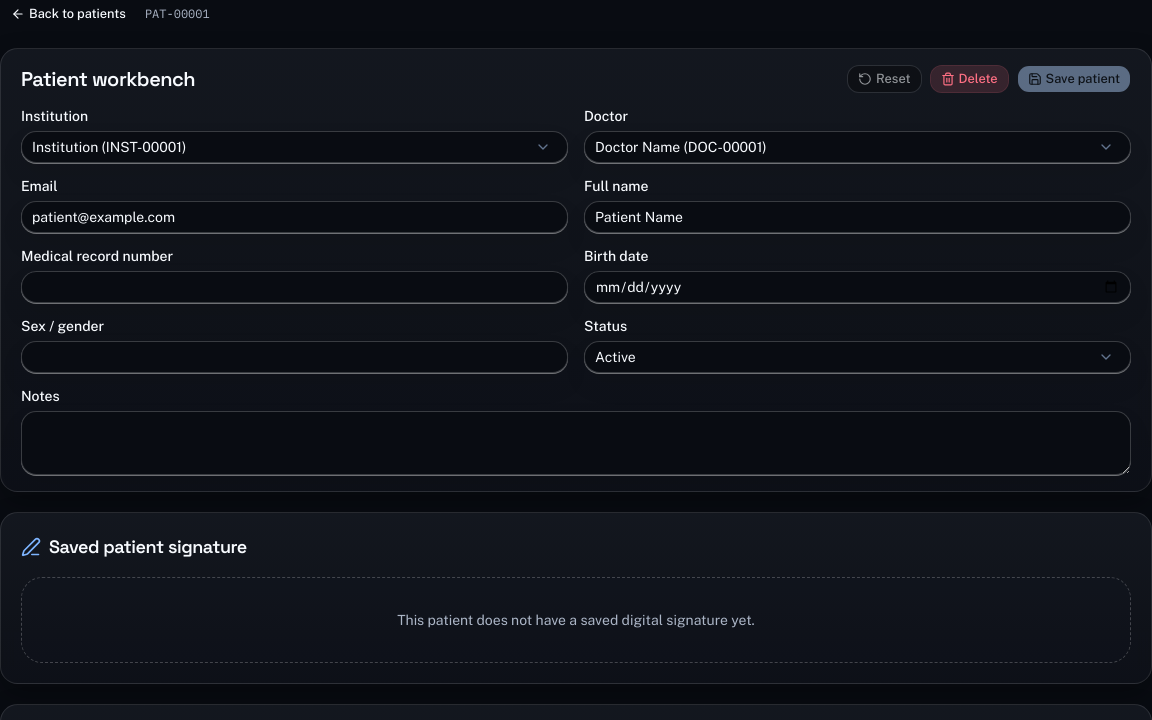
Test: PatientWorkbench portal credentials › shows the save error log when updating a patient fails
Replace the text in the field labelled "Full name" with "Updated Patient Name": (858,217) [584, 201, 1131, 233]
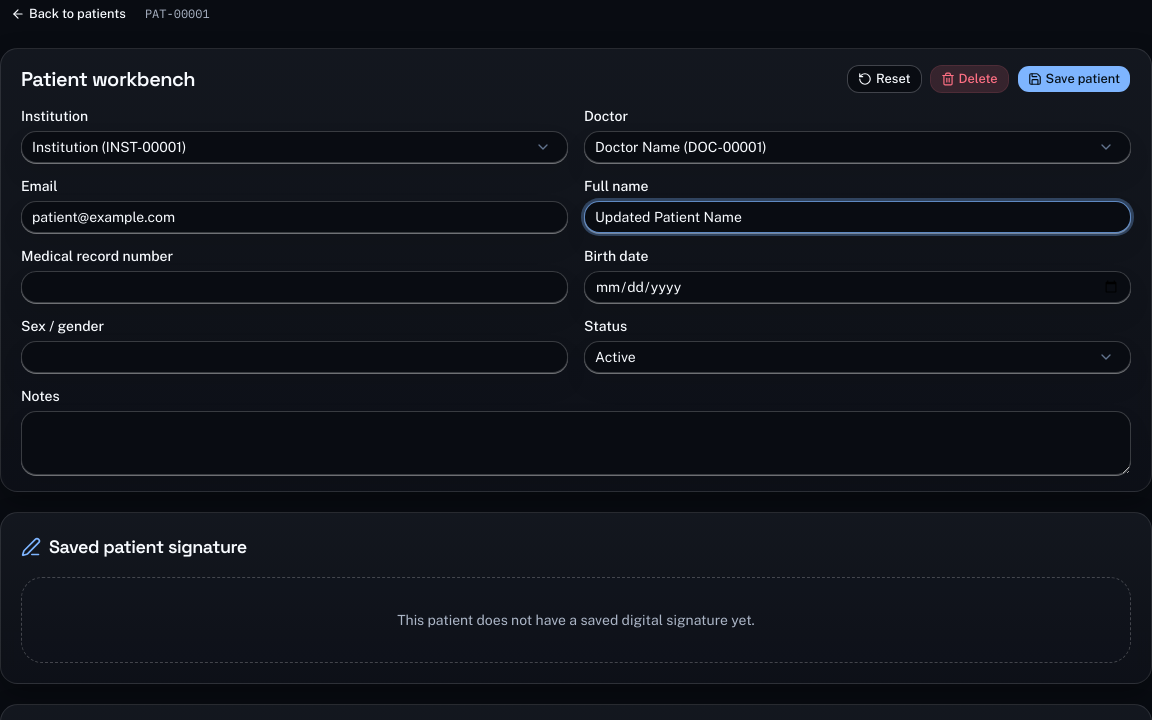
Click the button "Save patient": (1074,79) [1017, 65, 1131, 93]
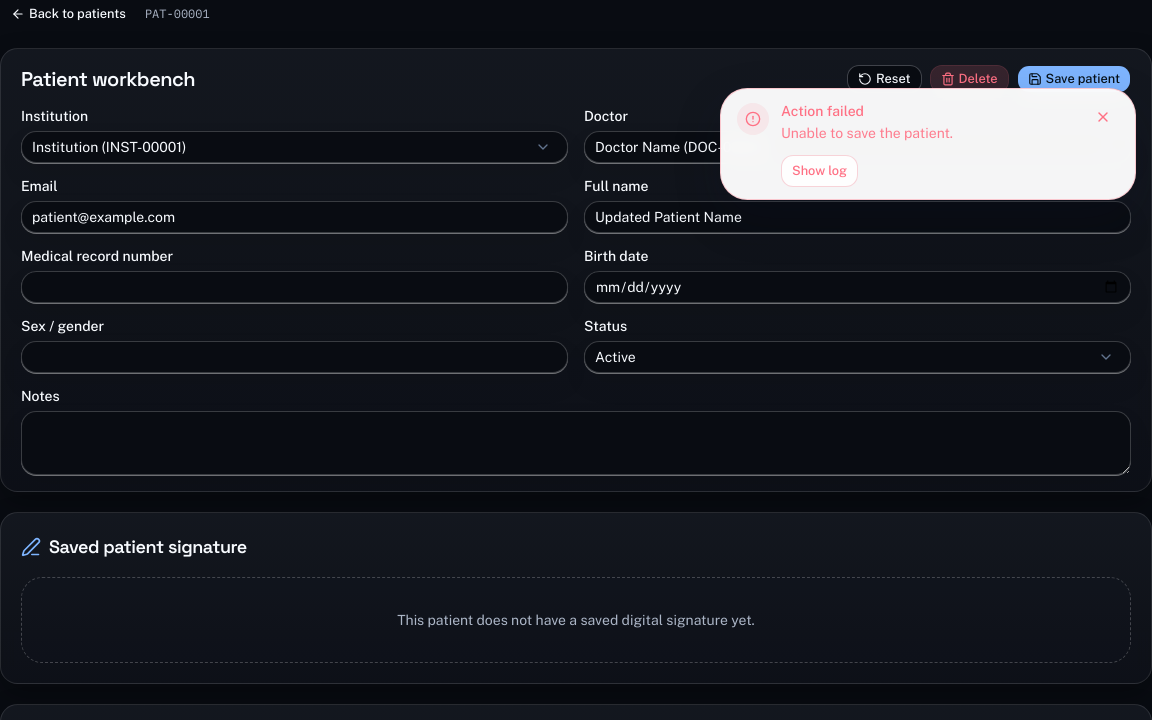
Expected: the text "Unable to save the patient." is shown, [781, 125, 953, 141]
Click the button "Show log": (820,171) [781, 155, 858, 187]
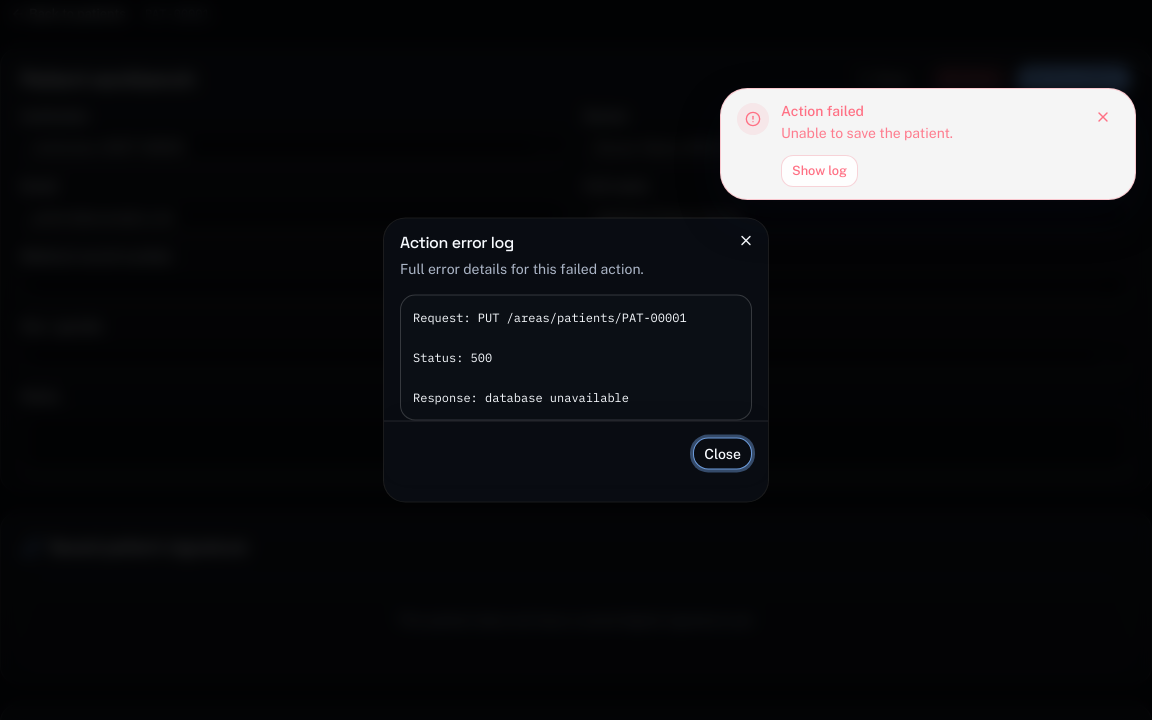
Expected: the dialog "Action error log" is shown, [384, 218, 768, 502]
Expected: the text "Response: database unavailable" is shown, [413, 310, 687, 404]
